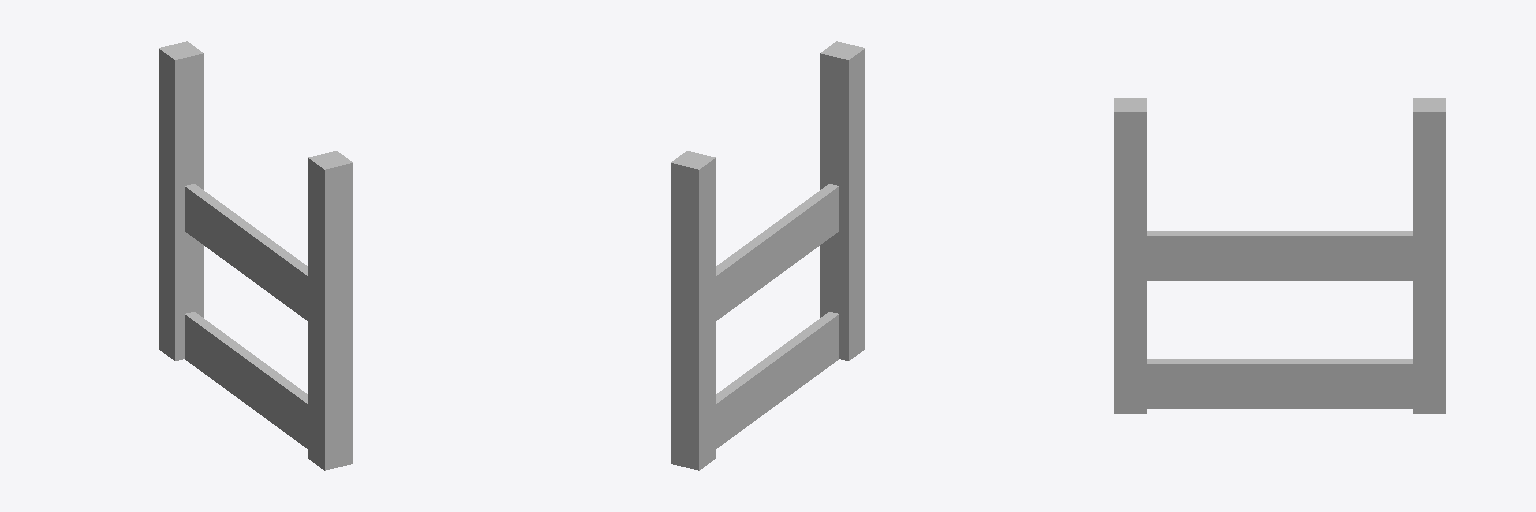
The model's file is poles-horizontal.obj.
3 renders of one model, left to right at view 1: azimuth 30°, elevation 25°; view 2: azimuth 150°, elevation 25°; view 3: azimuth 270°, elevation 25°, orthographic.
Visible parts, largest first — view 1: poles-horizontal; view 2: poles-horizontal; view 3: poles-horizontal.
Boxes of the visible parts, x1=… form: poles-horizontal: x1=159, y1=41, x2=352, y2=470; poles-horizontal: x1=671, y1=41, x2=864, y2=470; poles-horizontal: x1=1114, y1=98, x2=1445, y2=413.
Bounding box in the file's own units: 0.1 × 1 × 1.